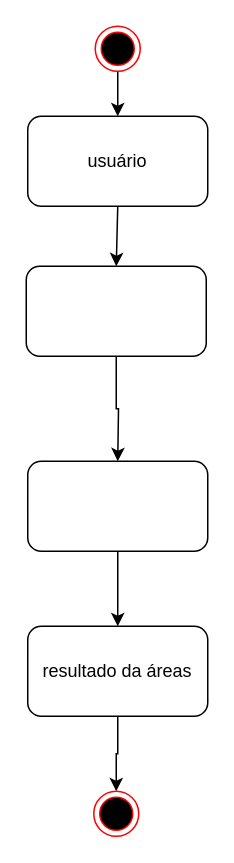
Image size: 234x863. Some labels were removed from this diagram. Here are the shapes that lost their labels. From the top down, the centre of each, then its label:
At (115,310): "receber variável lateral e frente".
At (117,505): "calcular área lateral x frente".
